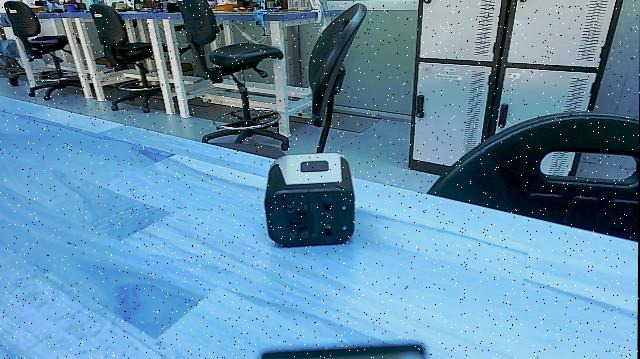adapter: (264, 152, 358, 254)
